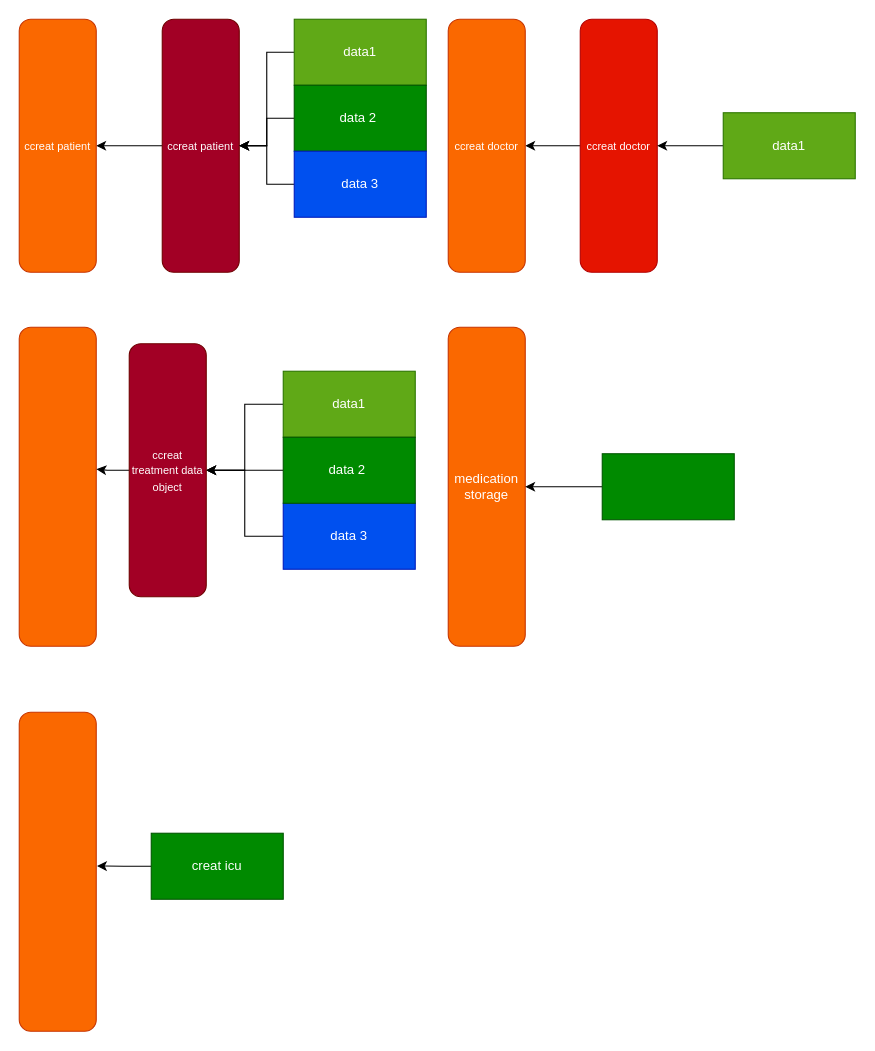
Image size: 875x1051. Some labels were removed from this diagram. Here are the shapes that lost their labels. From the top down, the centre of each, then its label:
At pixel 57 486: "treatment data list".
At pixel 667 486: "creat SystemMedication".
At pixel 57 871: "ICU list".
